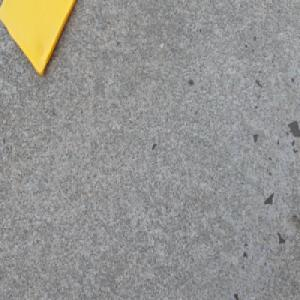PlasticPart: (0, 0, 78, 79)
